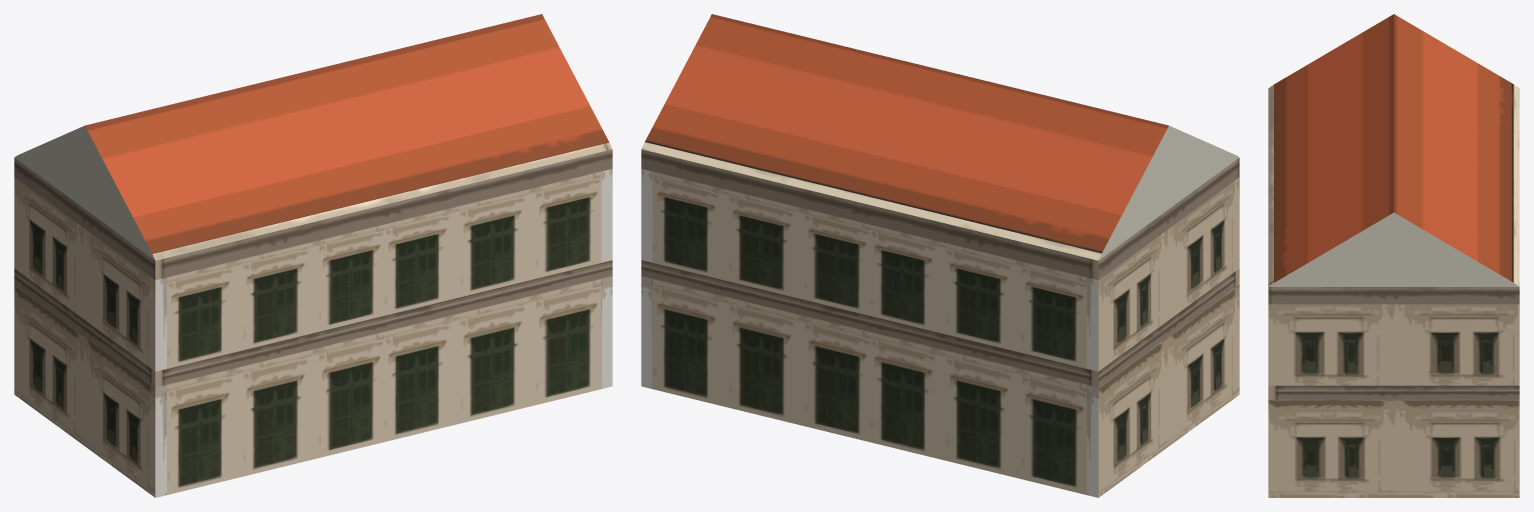
Rendered from SM_Building_Rich_01.fbx.
3 renders of one model, left to right at view 1: azimuth 30°, elevation 25°; view 2: azimuth 150°, elevation 25°; view 3: azimuth 270°, elevation 25°, orthographic. The views are drawn at different scales.
Visible parts, largest first — view 1: SM_Building_Rich_01; view 2: SM_Building_Rich_01; view 3: SM_Building_Rich_01.
Part boxes in pixels (x1,y1,x2,y2): SM_Building_Rich_01: (14, 14, 612, 497); SM_Building_Rich_01: (641, 14, 1239, 497); SM_Building_Rich_01: (1268, 14, 1519, 497).
Size of the model in its own units: 20.23 by 13.56 by 10.82.
